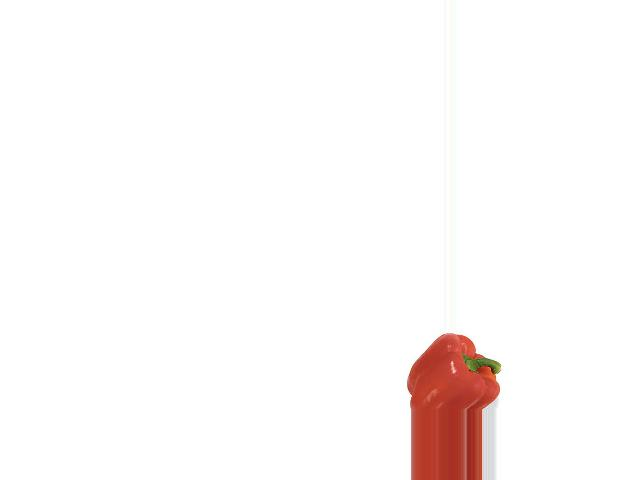bell_pepper: (396, 332, 513, 410)
